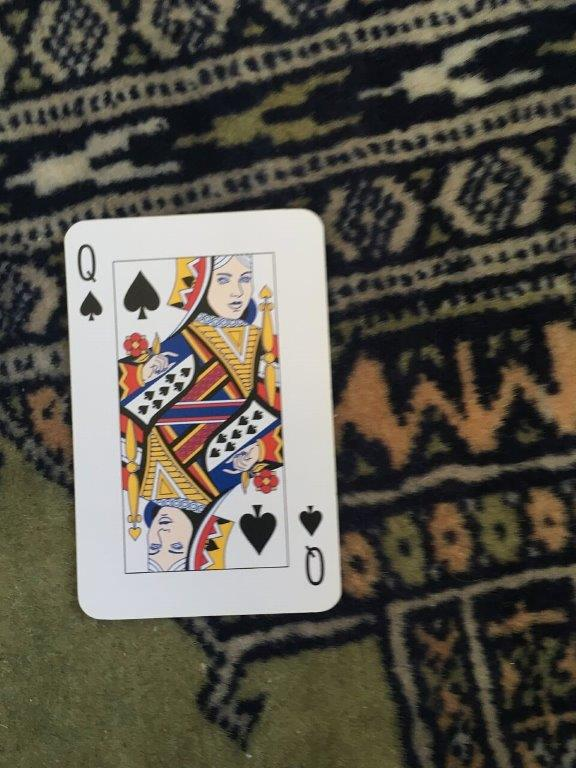QS: (59, 206, 347, 623)
